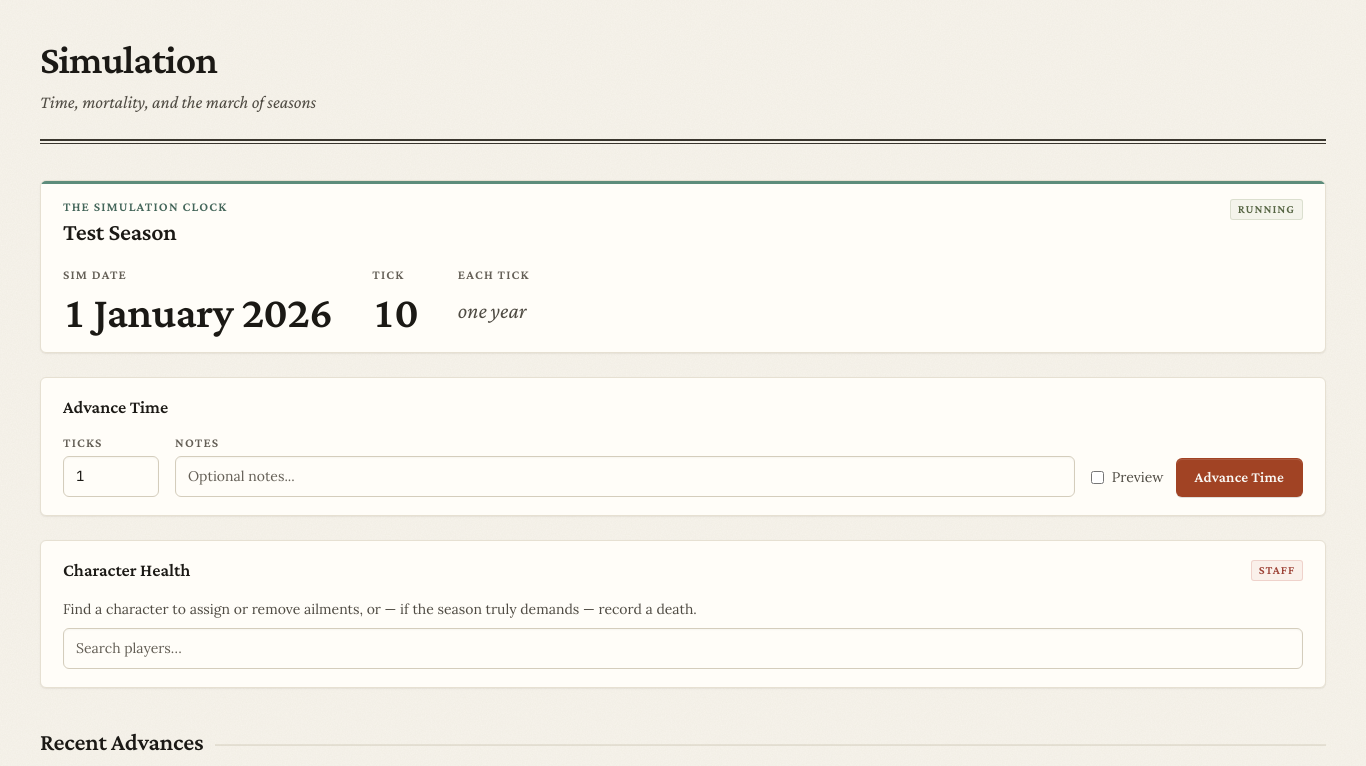
Test: Simulation › shows recovery results in time advance previews
Click the checkbox labelled "Preview": [1097, 477] box [1091, 471, 1104, 484]
(page scrolled)
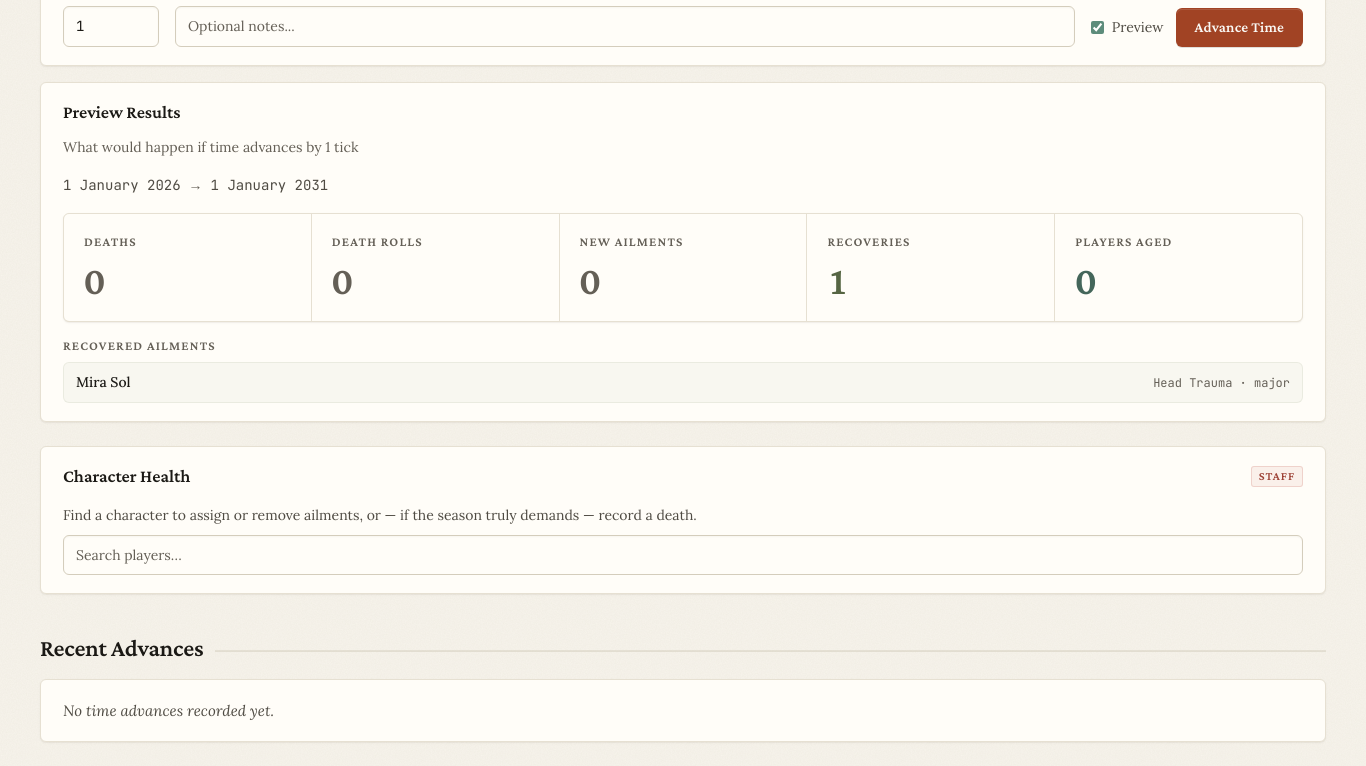
Check: the text "Recoveries" is shown, box [827, 234, 911, 249]
Check: the text "Mira Sol" is shown, box [76, 372, 130, 394]
Check: the text "Head Trauma · major" is shown, box [1153, 375, 1290, 391]
